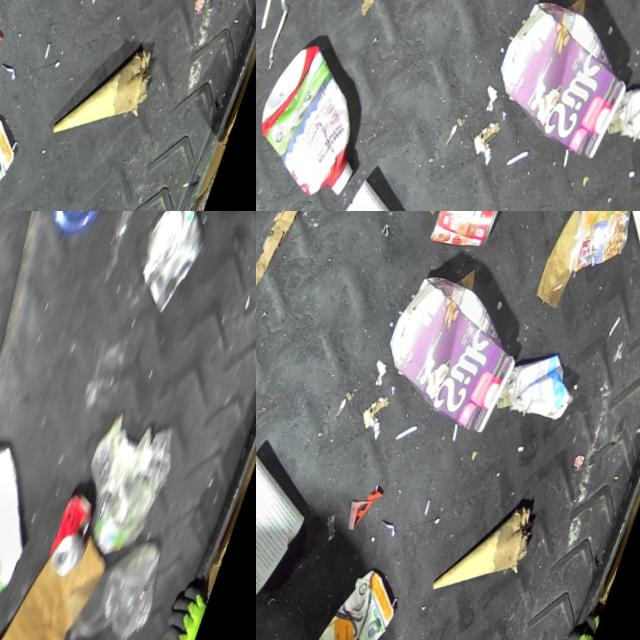can: (129, 211, 227, 316), (50, 478, 112, 577), (557, 211, 640, 281), (429, 211, 517, 256)
milk_jug: (0, 424, 68, 619)
non_white_jug: (374, 265, 544, 435), (484, 0, 640, 161), (256, 37, 398, 204), (314, 558, 418, 640), (256, 311, 287, 478), (0, 102, 38, 211)
